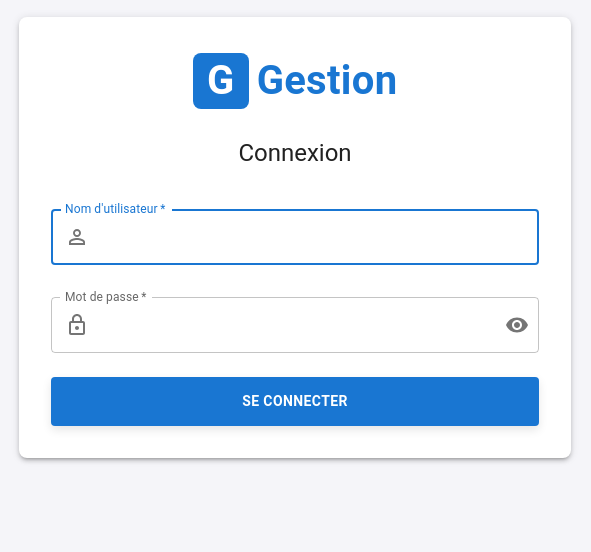
it: Login Component › should display error message on login failure
Type "testuser" into the field labelled "Nom d'utilisateur *" at (318, 237), box [97,209,539,265]
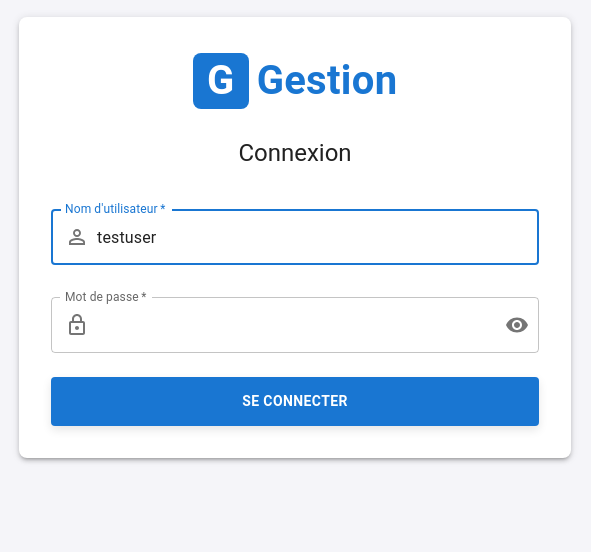
Type "wrongpass" into the password field labelled "Mot de passe *" at (293, 325), box [97,297,489,353]
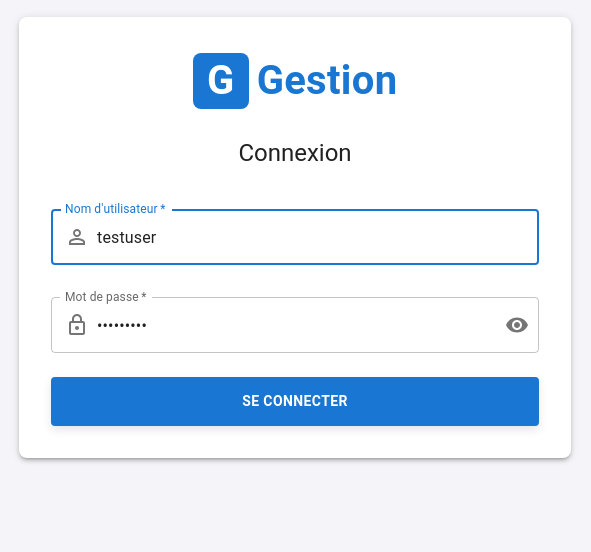
Click the button "Se connecter" at (295, 401), box [51,377,539,426]
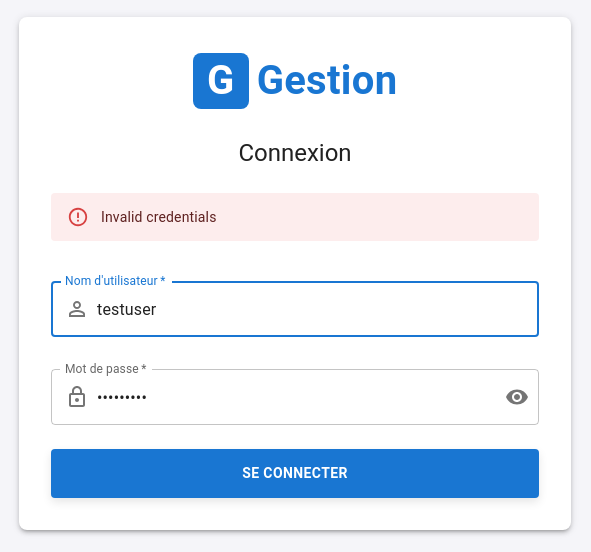
Expected: the text "Invalid credentials" is shown, [101,209,216,225]
